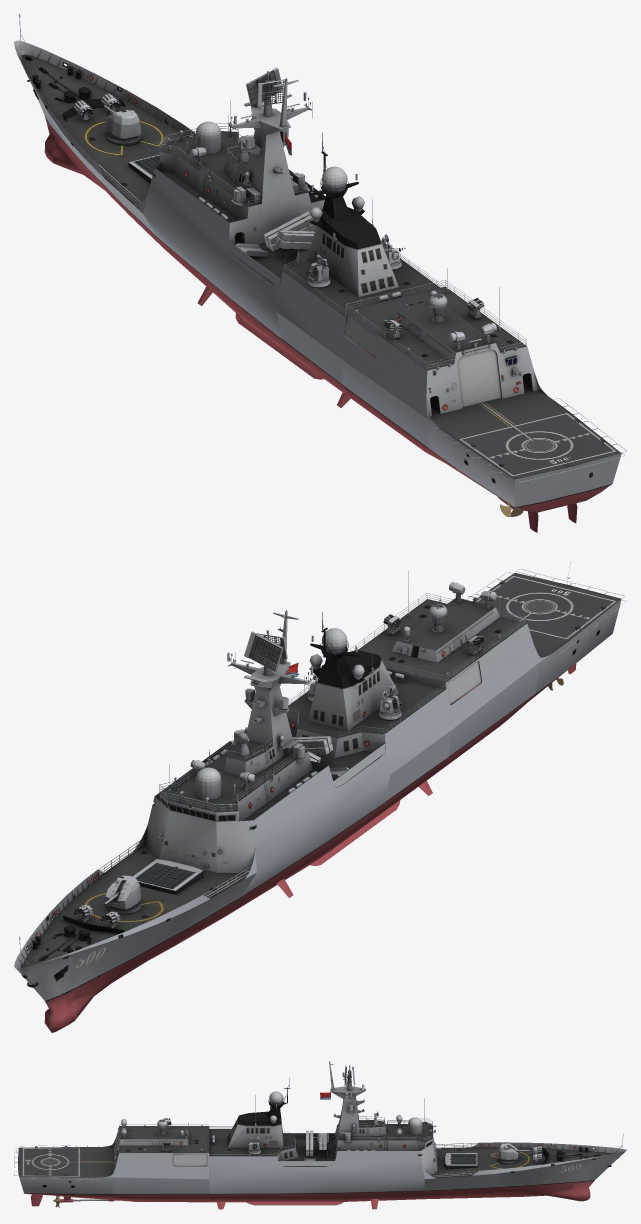
Rendered from type_054a.glb.
3 views of the same model, one above another, from view 1: azimuth 30°, elevation 25°; view 2: azimuth 150°, elevation 25°; view 3: azimuth 270°, elevation 25° (orthographic). The views are drawn at different scales.
Parts seen in each view (by area): view 1: Object_3, Object_10, Object_4, Object_6; view 2: Object_3, Object_10, Object_4, Object_6; view 3: Object_3, Object_10, Object_4, Object_6.
Boxes of the visible parts, bbox=[...] form: Object_3: bbox=[143, 67, 443, 400]; Object_10: bbox=[338, 268, 626, 512]; Object_4: bbox=[14, 14, 195, 248]; Object_6: bbox=[197, 286, 577, 532]; Object_3: bbox=[143, 609, 452, 915]; Object_10: bbox=[347, 561, 626, 769]; Object_4: bbox=[14, 823, 256, 1032]; Object_6: bbox=[277, 663, 576, 897]; Object_3: bbox=[209, 1061, 437, 1202]; Object_10: bbox=[14, 1118, 209, 1202]; Object_4: bbox=[422, 1134, 626, 1201]; Object_6: bbox=[30, 1194, 378, 1209].
Bounding box in the file's own units: 17.55 × 33.86 × 134.
Materials: 6 (6 with a texture image).
